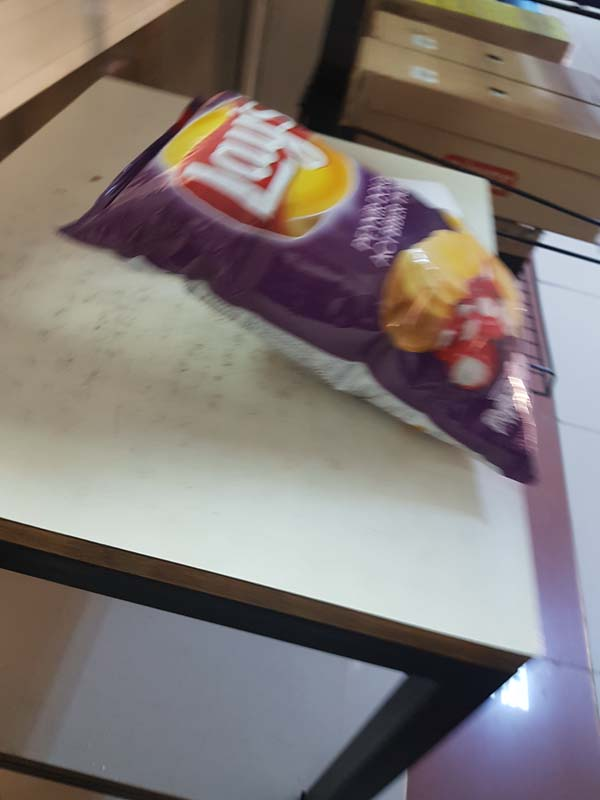layspeynirsoslu: (55, 88, 560, 484)
